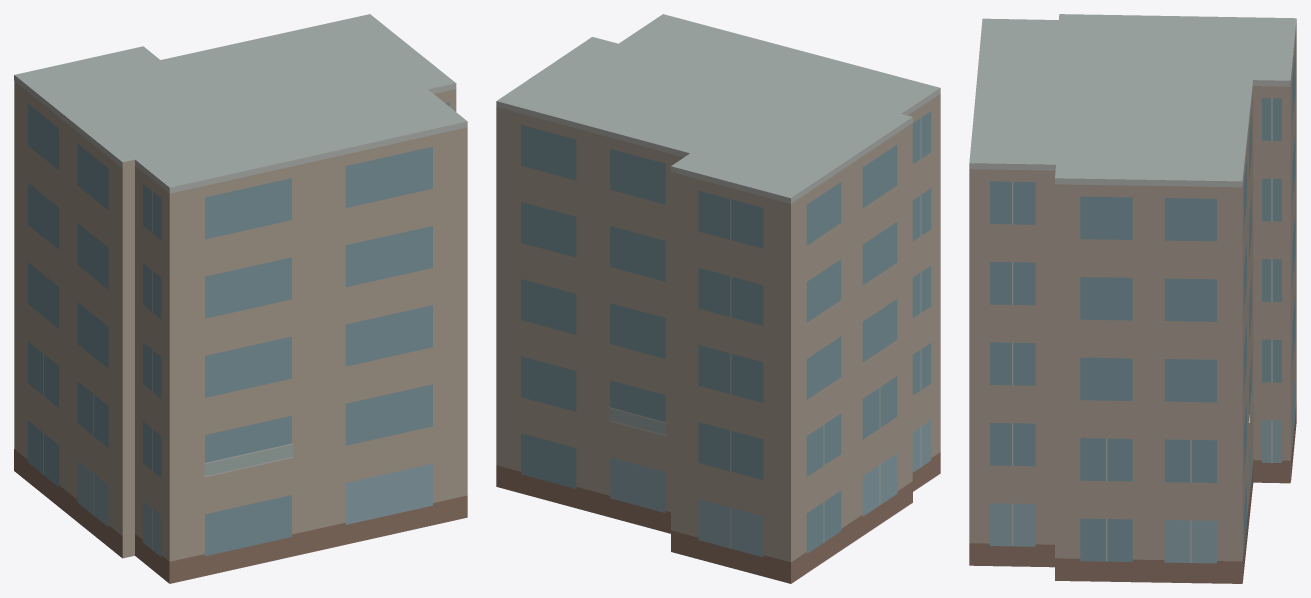
File: survey-upis-32876536.glb
The picture shows the model from 3 angles, left to right: view 1: azimuth 30°, elevation 25°; view 2: azimuth 150°, elevation 25°; view 3: azimuth 270°, elevation 25°; orthographic projection. The views are drawn at different scales.
Parts seen in each view (by area): view 1: survey-upis-32876536.tmp; view 2: survey-upis-32876536.tmp; view 3: survey-upis-32876536.tmp.
Part boxes in pixels (bbox=[...]): survey-upis-32876536.tmp: bbox=[14, 14, 467, 583]; survey-upis-32876536.tmp: bbox=[496, 14, 940, 583]; survey-upis-32876536.tmp: bbox=[969, 14, 1296, 583].
Bounding box in the file's own units: 14.72 × 16.5 × 12.17.
